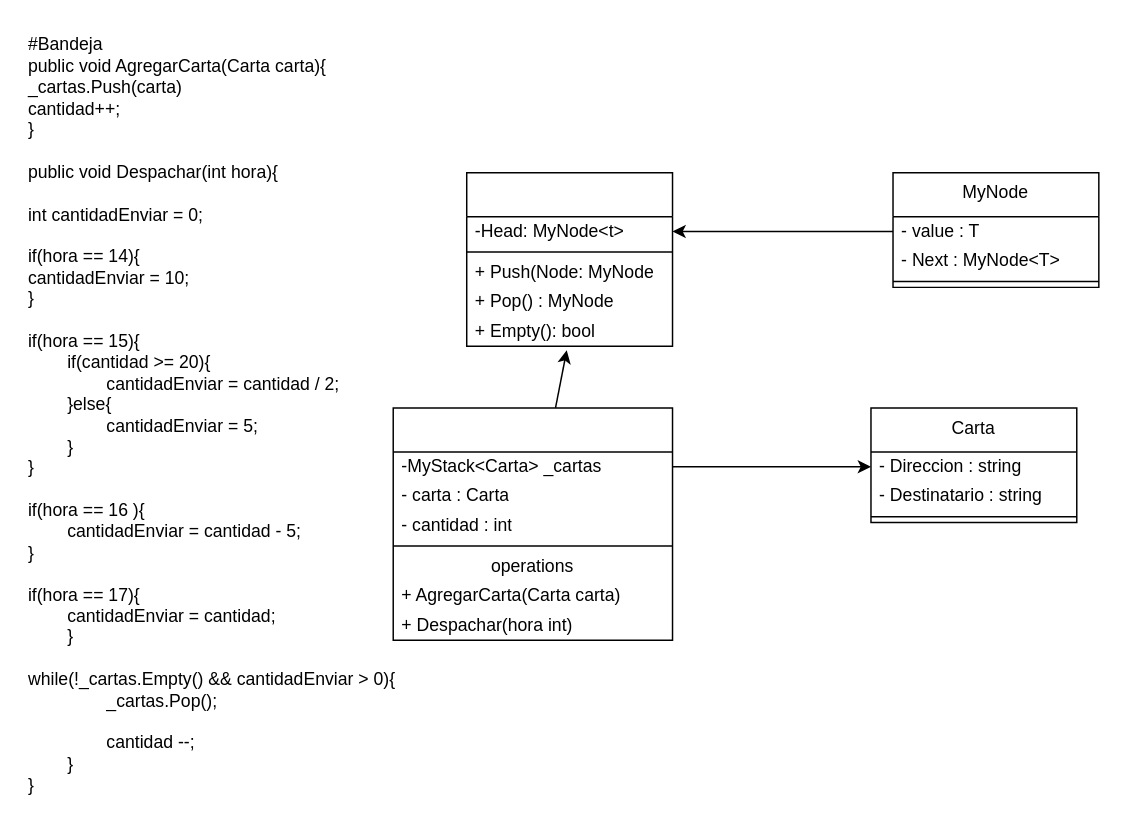
Some shapes in this 1125 by 829 pixel diagram are drawn without their labels. Here are the shapes that lost their labels. From the top down, the box of each, then its label:
(465, 171, 673, 346): MyStack
(392, 406, 673, 640): Bandeja
